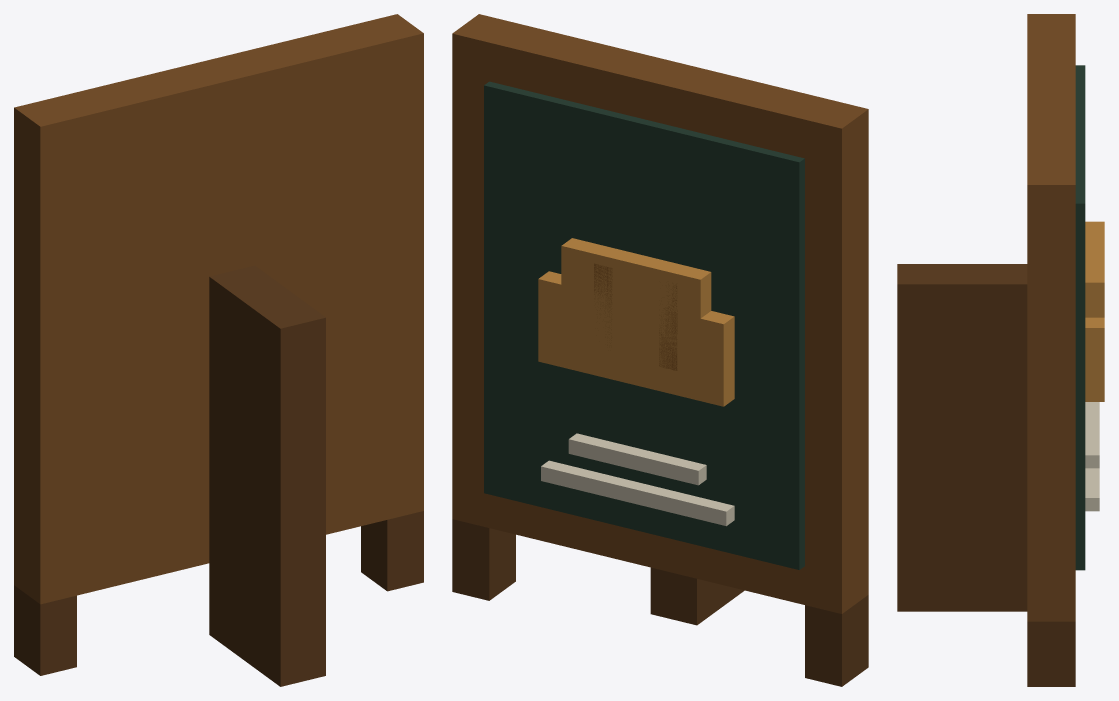
Rendered from cp-chalkboard-bread.glb.
3 views of the same model, side by side, from view 1: azimuth 30°, elevation 25°; view 2: azimuth 150°, elevation 25°; view 3: azimuth 270°, elevation 25° (orthographic). The views are drawn at different scales.
Visible parts, largest first — view 1: box-prop; view 2: box-prop; view 3: box-prop.
Part boxes in pixels (box(x1,y1,x2,y2)): box-prop: box(14, 14, 423, 686); box-prop: box(452, 14, 868, 686); box-prop: box(897, 14, 1104, 686).
Size of the model in its own units: 0.84 by 1.15 by 0.43.
